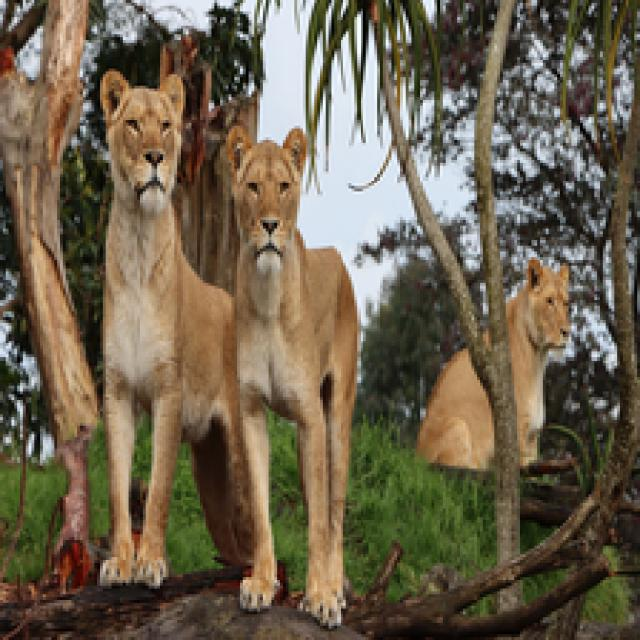lion: (76, 47, 232, 640), (212, 94, 370, 611), (439, 245, 584, 472)
